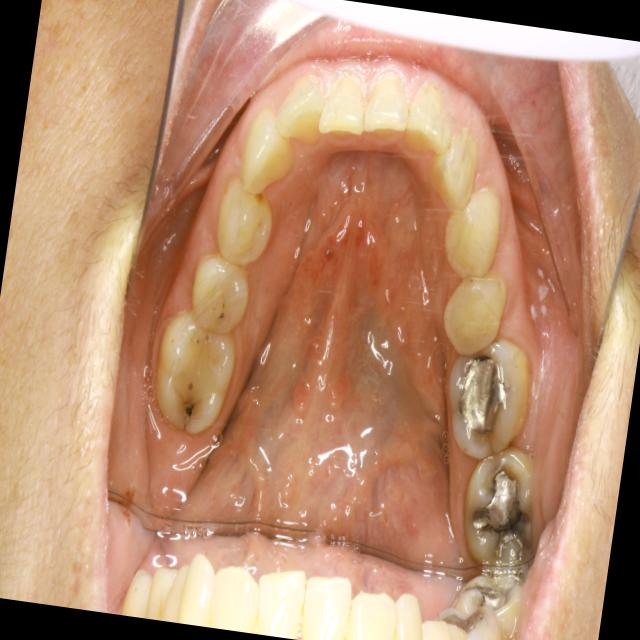tooth: (445, 434, 565, 588), (429, 324, 549, 474), (140, 301, 250, 447), (433, 179, 514, 291), (433, 260, 517, 367), (180, 245, 261, 349), (208, 167, 283, 275), (419, 117, 487, 219), (232, 105, 303, 201), (399, 73, 462, 169), (357, 63, 417, 161), (269, 70, 332, 154), (316, 71, 372, 147)
